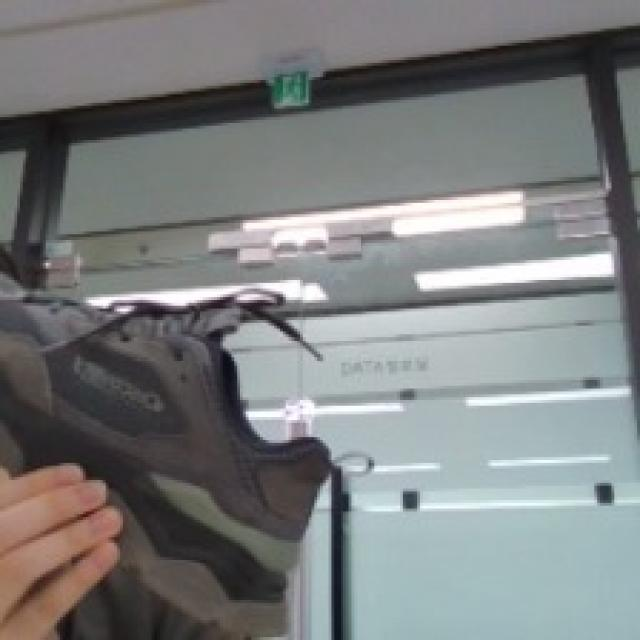shoe: (0, 268, 334, 640)
